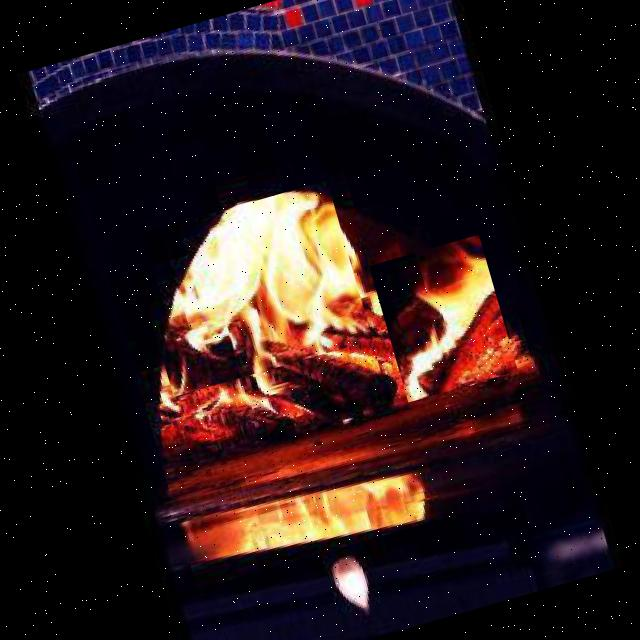fire: (128, 180, 372, 396), (368, 234, 518, 402)
